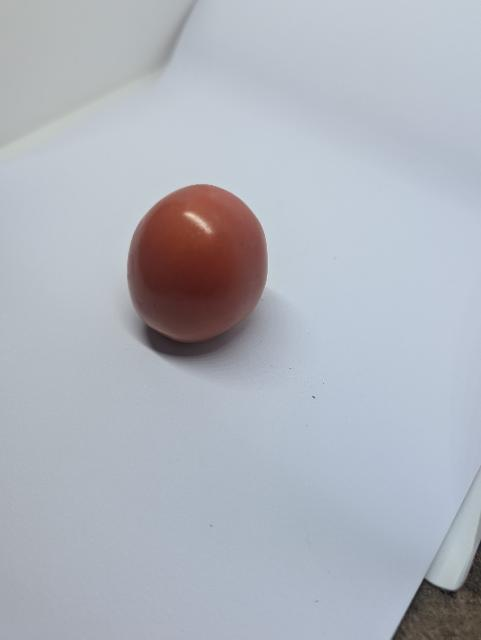red: (123, 176, 272, 360)
